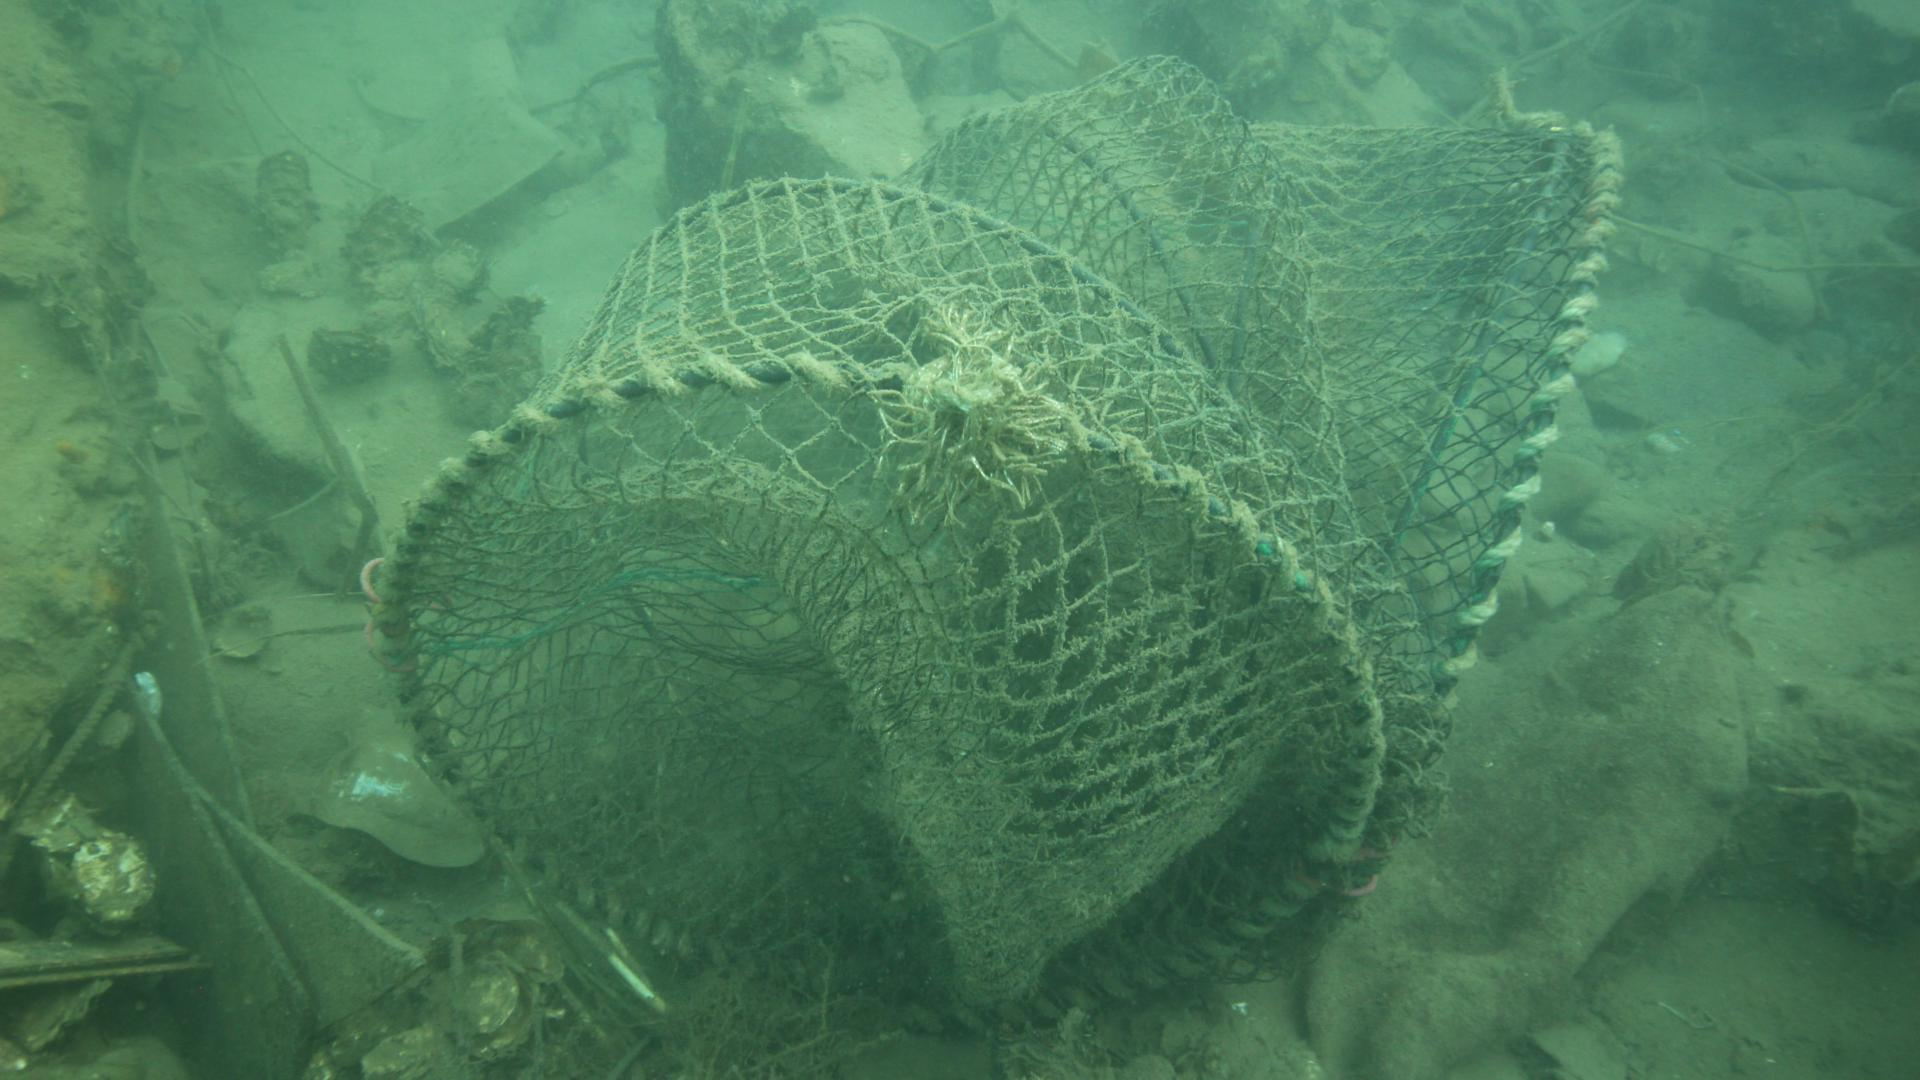spring fish trap: (357, 50, 1625, 1034)
